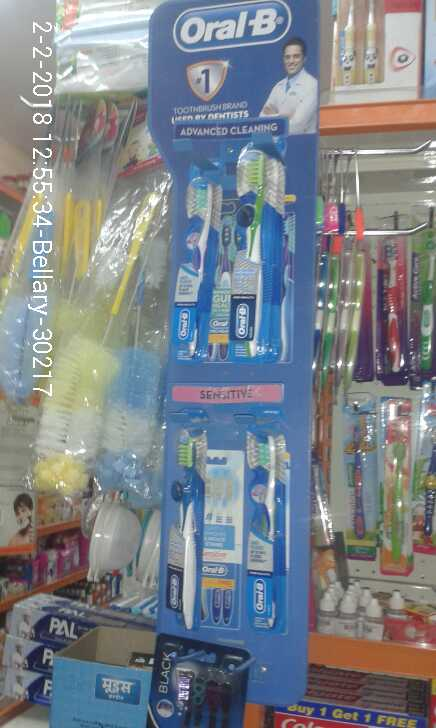oralb: (224, 133, 297, 366), (233, 422, 299, 639), (168, 162, 219, 361), (170, 422, 220, 620)
